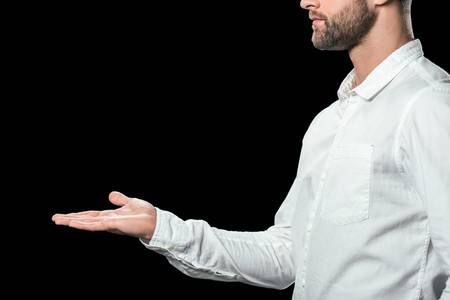F_shirt: (138, 39, 449, 300)
